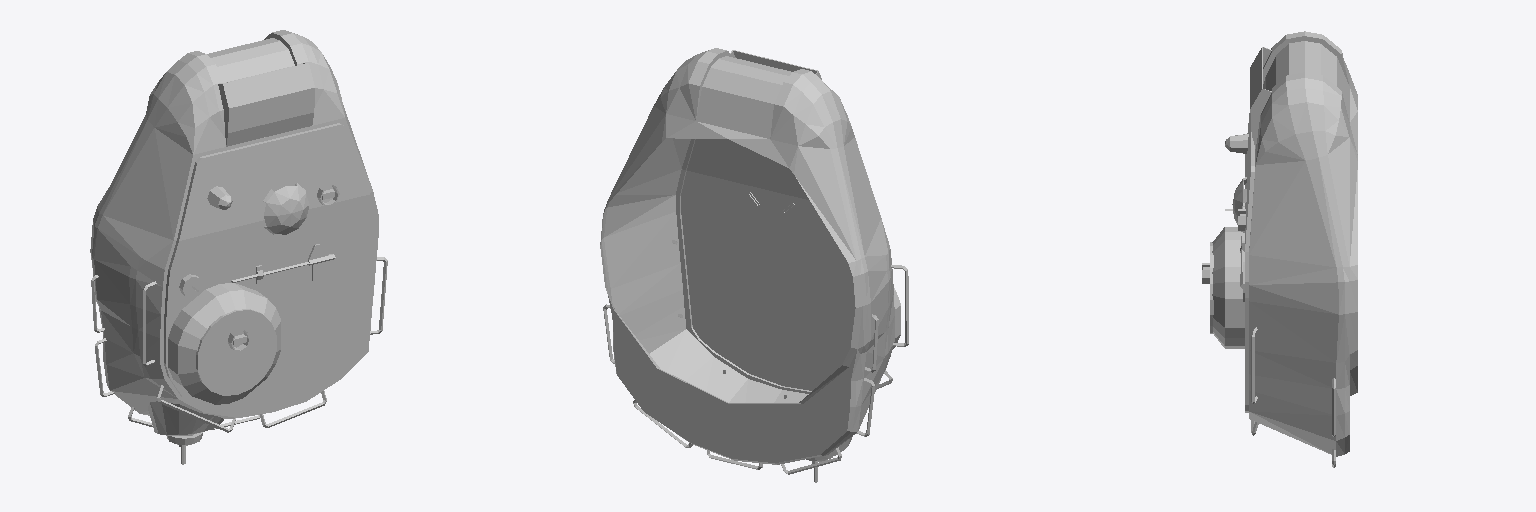
Rendered from Turret_01.obj.
The picture shows the model from 3 angles: view 1: azimuth 30°, elevation 25°; view 2: azimuth 150°, elevation 25°; view 3: azimuth 270°, elevation 25°; orthographic projection.
Visible parts, largest first — view 1: 3D_Object_1; view 2: 3D_Object_1; view 3: 3D_Object_1.
Part boxes in pixels (x1,y1,x2,y2): 3D_Object_1: (90, 30, 387, 464); 3D_Object_1: (600, 48, 908, 482); 3D_Object_1: (1202, 31, 1357, 467).
Bounding box in the file's own units: 2.36 × 3.3 × 1.16.